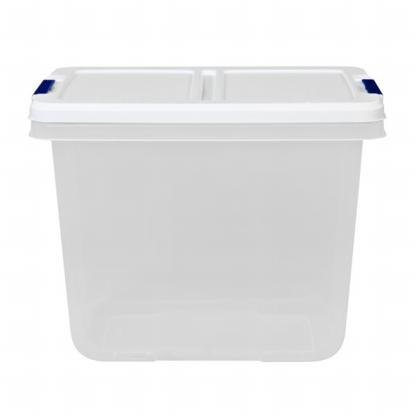plastic_box: (16, 17, 410, 382)
